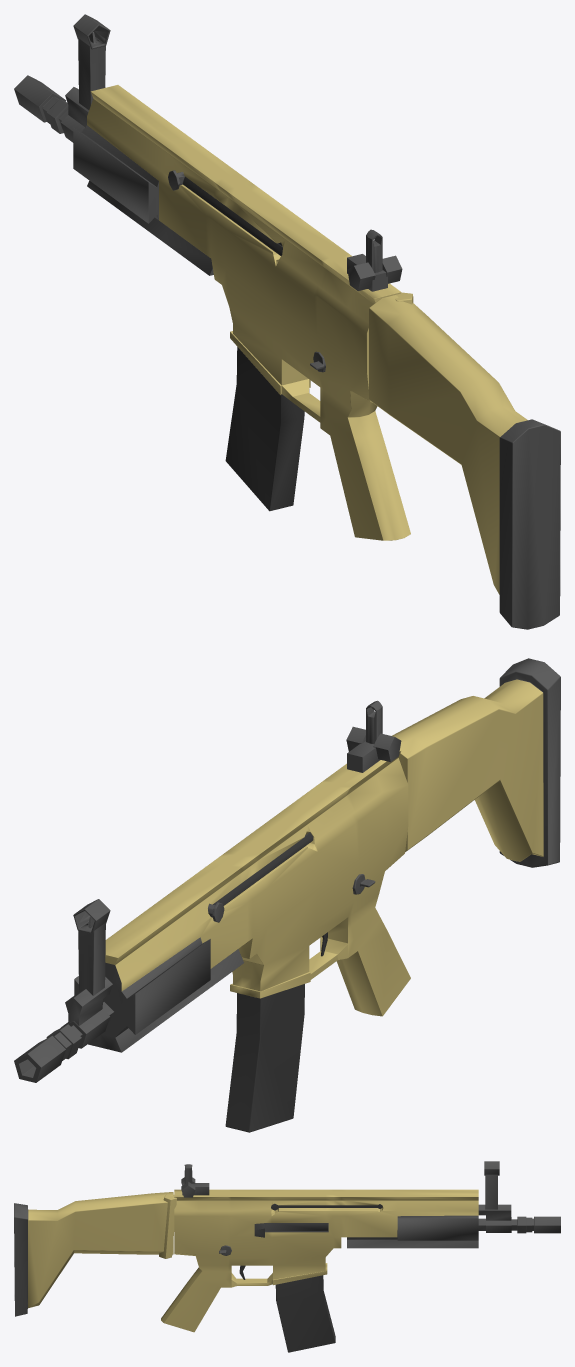
The model's file is scar.glb.
The picture shows the model from 3 angles, top to bottom: view 1: azimuth 30°, elevation 25°; view 2: azimuth 150°, elevation 25°; view 3: azimuth 270°, elevation 25°; orthographic projection. The views are drawn at different scales.
Visible parts, largest first — view 1: WeaponBodyGeometry, StockGeometry, MagazineGeometry, FrontIronSight, IronSightGeometry, ChargingHandleGeometry; view 2: WeaponBodyGeometry, StockGeometry, MagazineGeometry, FrontIronSight, IronSightGeometry, ChargingHandleGeometry; view 3: WeaponBodyGeometry, StockGeometry, MagazineGeometry, FrontIronSight, IronSightGeometry, BoltGeometry.
Boxes of the visible parts, x1,y1,x2,y2 form: WeaponBodyGeometry: (14, 75, 410, 540); StockGeometry: (369, 292, 560, 629); MagazineGeometry: (225, 347, 304, 511); FrontIronSight: (73, 14, 110, 109); IronSightGeometry: (347, 229, 402, 291); ChargingHandleGeometry: (168, 170, 282, 255); WeaponBodyGeometry: (14, 750, 410, 1082); StockGeometry: (392, 658, 560, 867); MagazineGeometry: (225, 984, 304, 1132); FrontIronSight: (73, 899, 110, 995); IronSightGeometry: (346, 700, 401, 772); ChargingHandleGeometry: (208, 832, 313, 922); WeaponBodyGeometry: (161, 1189, 560, 1332); StockGeometry: (14, 1192, 176, 1316); MagazineGeometry: (275, 1275, 335, 1352); FrontIronSight: (484, 1161, 499, 1209); IronSightGeometry: (181, 1164, 209, 1197); BoltGeometry: (265, 1223, 328, 1230).
Size of the model in its own units: 0.128 by 0.6 by 1.58.
